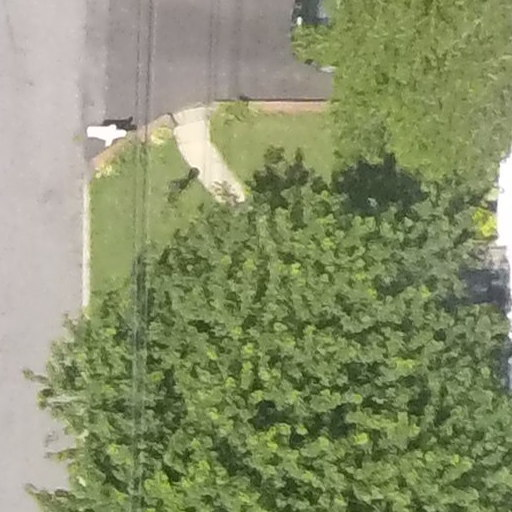driveway: (79, 4, 348, 114)
